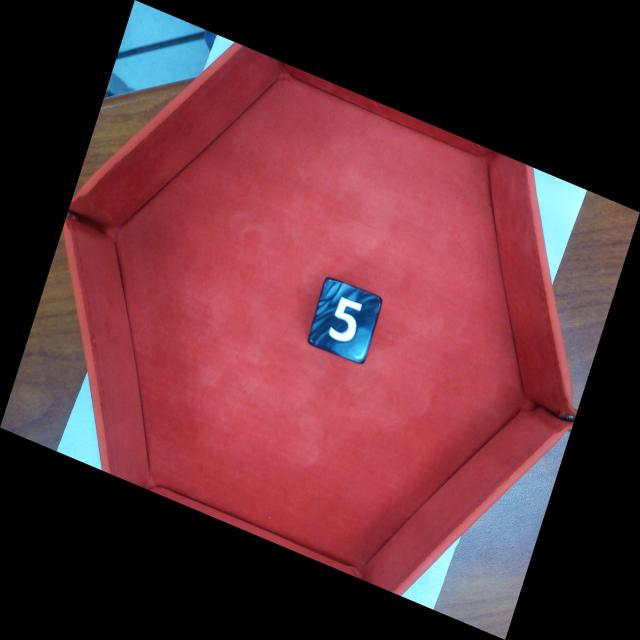dice: (307, 277, 382, 365)
